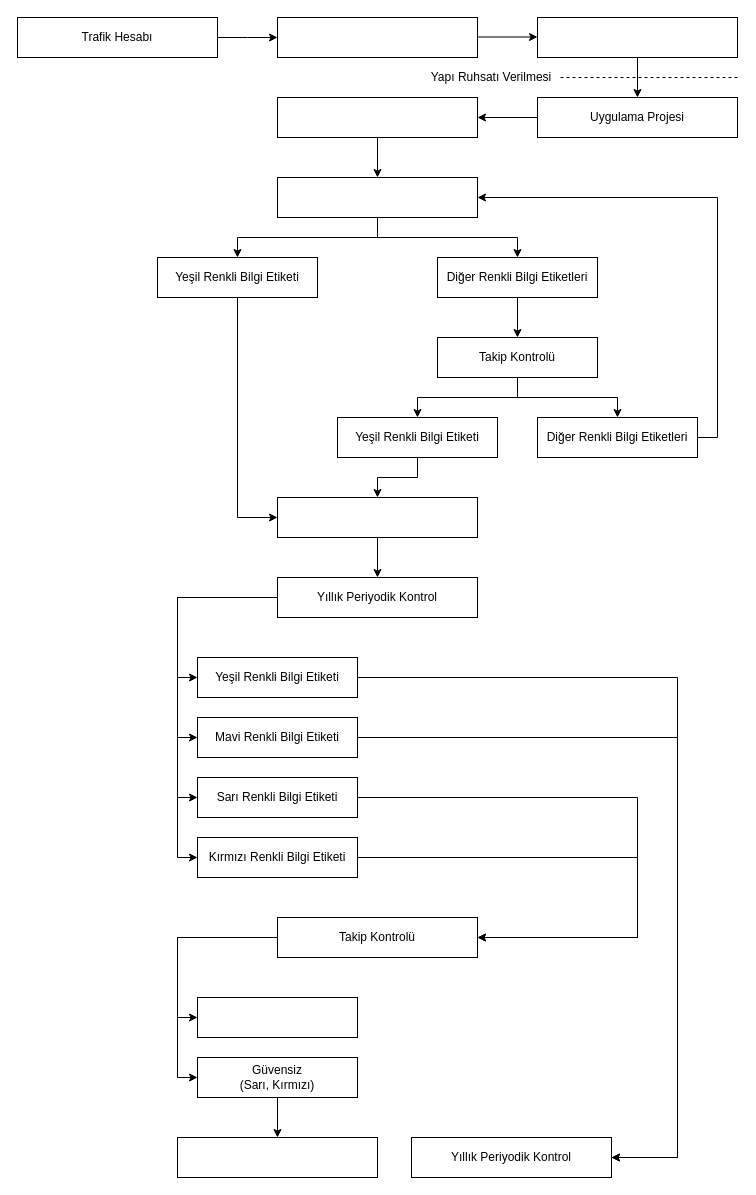
Image size: 756x1195. Some labels were removed from this diagram. Each missing label, with the box of its shape:
Avan Projesi: (536, 16, 738, 58)
Güvenli (Yeşil, Mavi): (196, 996, 358, 1038)
Hizmetten Men: (176, 1136, 378, 1178)
İlk Periyodik Kontrol: (276, 176, 478, 218)
Montaj İşlemleri: (276, 96, 478, 138)
Sözleşme: (276, 16, 478, 58)
Tescil: (276, 496, 478, 538)
